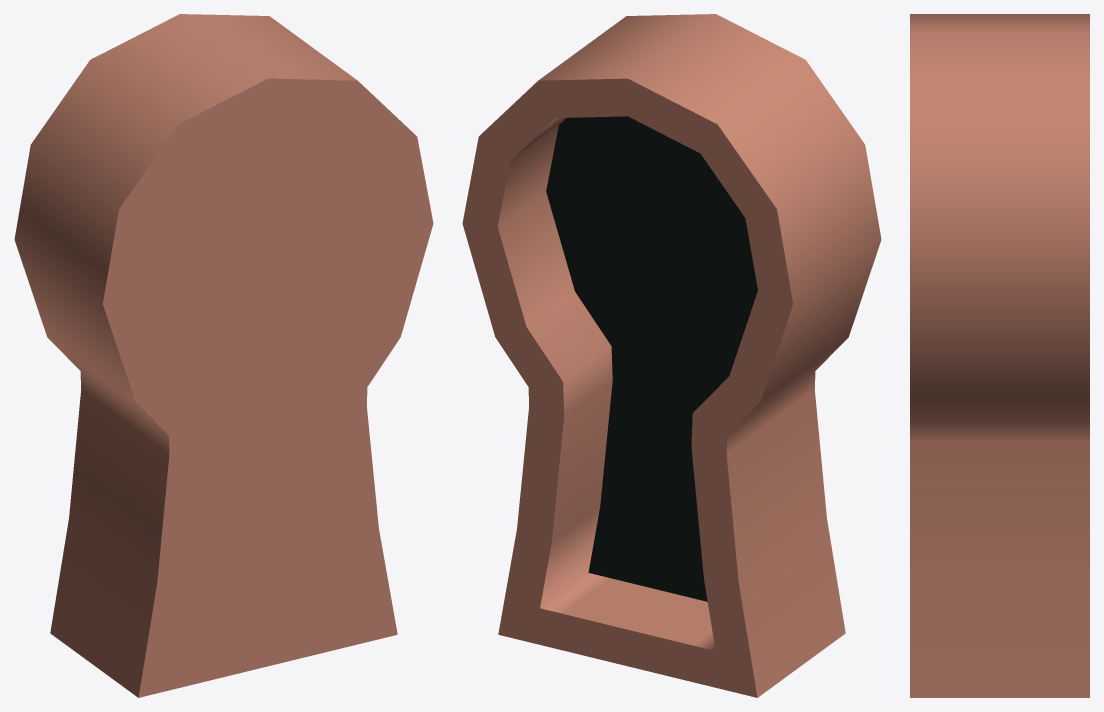
The model's file is Lock.fbx.
The picture shows the model from 3 angles, left to right: view 1: azimuth 30°, elevation 25°; view 2: azimuth 150°, elevation 25°; view 3: azimuth 270°, elevation 25°; orthographic projection.
Visible parts, largest first — view 1: Cube; view 2: Cube; view 3: Cube.
Boxes of the visible parts, bbox=[...] form: Cube: bbox=[14, 14, 433, 697]; Cube: bbox=[462, 14, 881, 697]; Cube: bbox=[910, 14, 1089, 697].
Bounding box in the file's own units: 59.03 × 100 × 27.28.
Materials: 1 (1 with a texture image).
